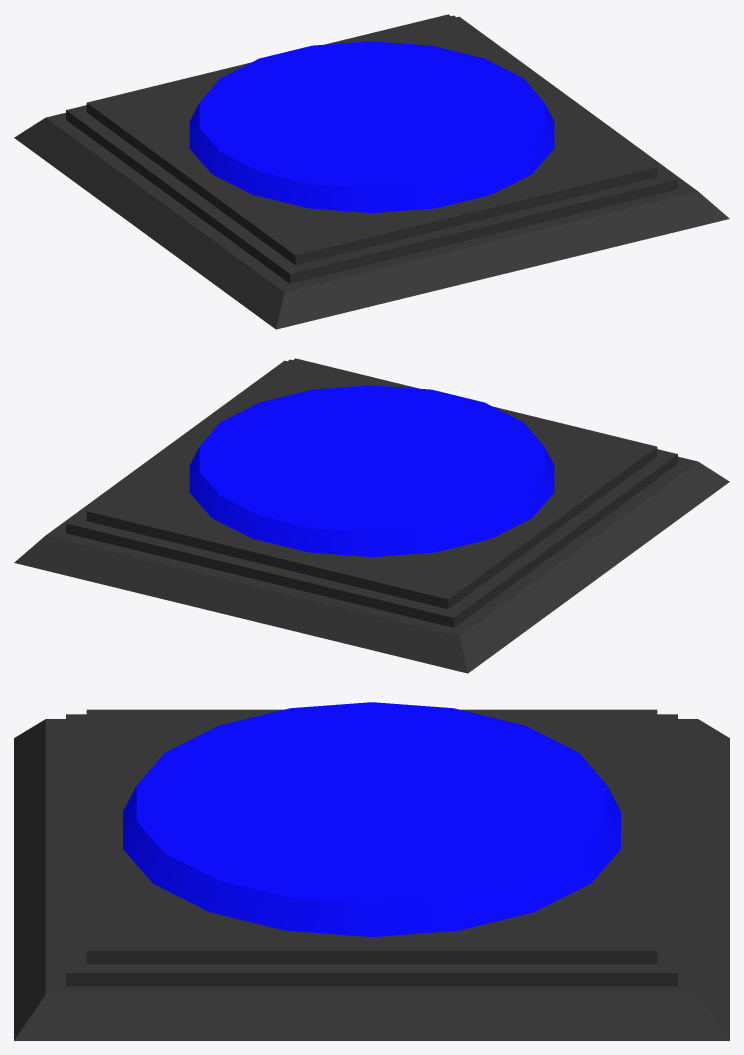
The model's file is Button.FBX.
3 renders of one model, top to bottom at view 1: azimuth 30°, elevation 25°; view 2: azimuth 150°, elevation 25°; view 3: azimuth 270°, elevation 25°, orthographic. The views are drawn at different scales.
Visible parts, largest first — view 1: Box001, DarkBlue; view 2: Box001, DarkBlue; view 3: Box001, DarkBlue.
Boxes of the visible parts, bbox=[...] form: Box001: bbox=[14, 14, 729, 329]; DarkBlue: bbox=[189, 41, 554, 212]; Box001: bbox=[14, 358, 729, 673]; DarkBlue: bbox=[189, 385, 554, 556]; Box001: bbox=[14, 709, 729, 1040]; DarkBlue: bbox=[123, 702, 620, 936].
Bounding box in the file's own units: 100 × 13.31 × 100.
